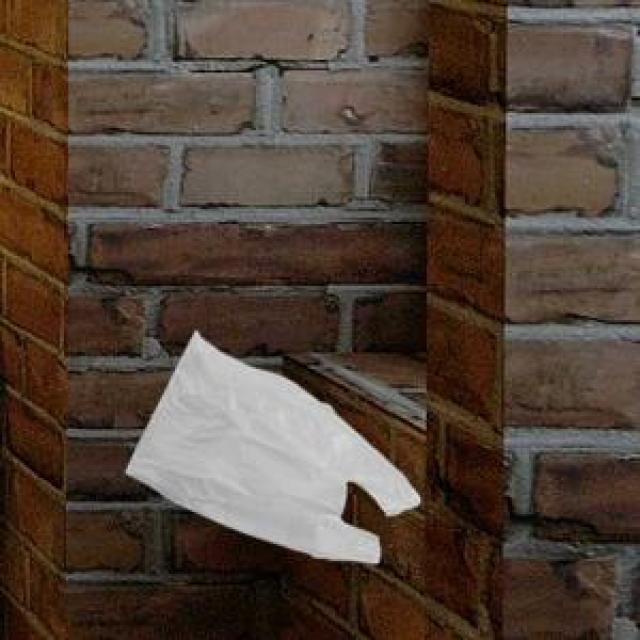waste: (126, 331, 420, 563)
